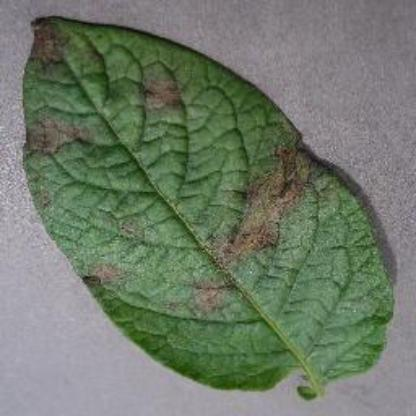Late-Blight: (17, 8, 398, 404)
